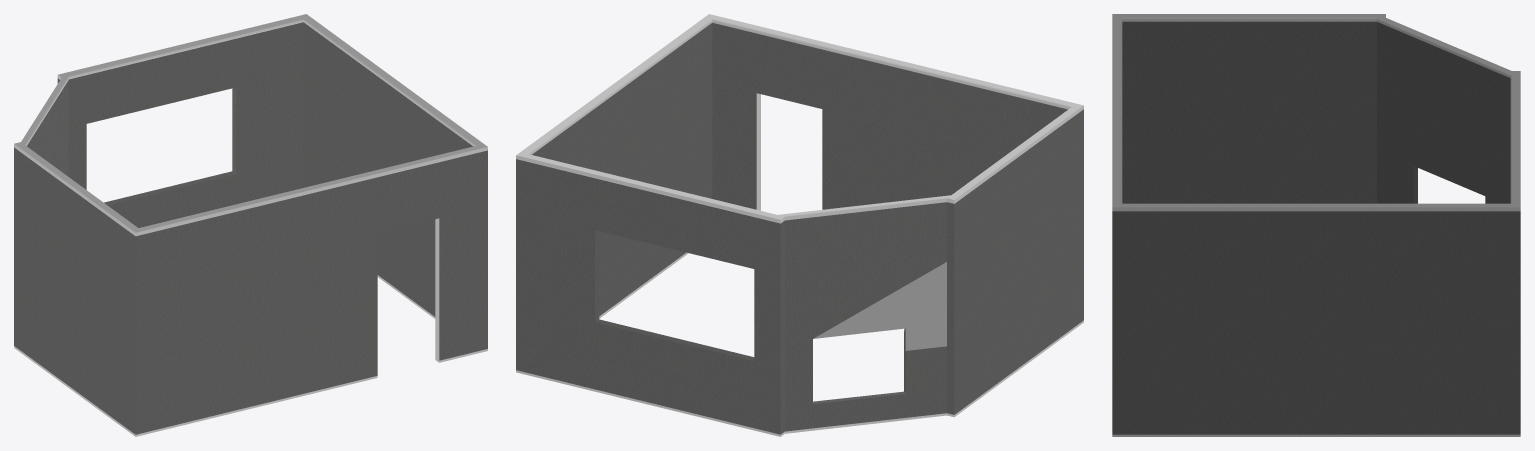
File: FP222:StandardWallSize_9160cdc8.obj
3 views of the same model, side by side, from view 1: azimuth 30°, elevation 25°; view 2: azimuth 150°, elevation 25°; view 3: azimuth 270°, elevation 25° (orthographic). The views are drawn at different scales.
Visible parts, largest first — view 1: FP222:StandardWallSize_9160cdc8; view 2: FP222:StandardWallSize_9160cdc8; view 3: FP222:StandardWallSize_9160cdc8.
Boxes of the visible parts, bbox=[...] form: FP222:StandardWallSize_9160cdc8: bbox=[14, 14, 487, 436]; FP222:StandardWallSize_9160cdc8: bbox=[516, 14, 1083, 436]; FP222:StandardWallSize_9160cdc8: bbox=[1112, 14, 1520, 436].
Bounding box in the file's own units: 5.1 × 2.83 × 4.55.
